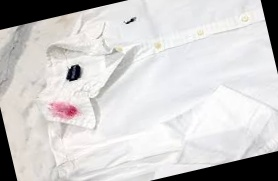lipstick: (46, 94, 83, 131)
